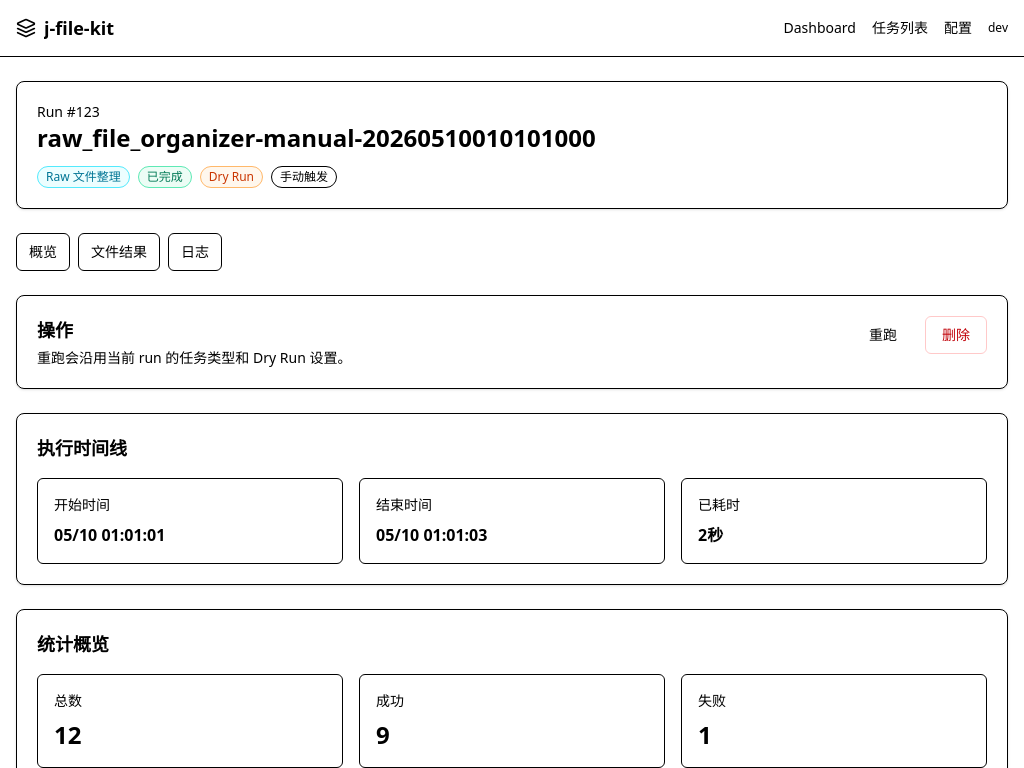
Test: Task detail page › changes file result pages
Click the tab "文件结果". click: (119,252)
box: top-left (78, 233), bottom-right (160, 271)
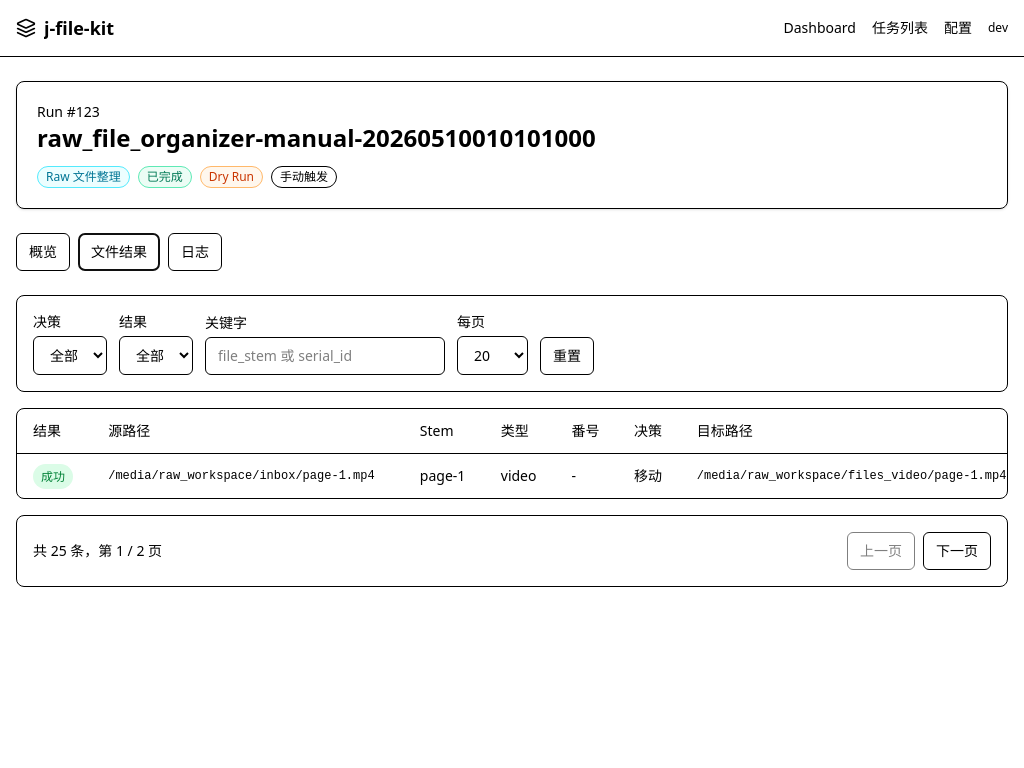
Expected: the text "page-1" is shown, top-left (420, 466), bottom-right (469, 486)
Click the button "下一页". click: (957,551)
box: top-left (923, 532), bottom-right (991, 570)
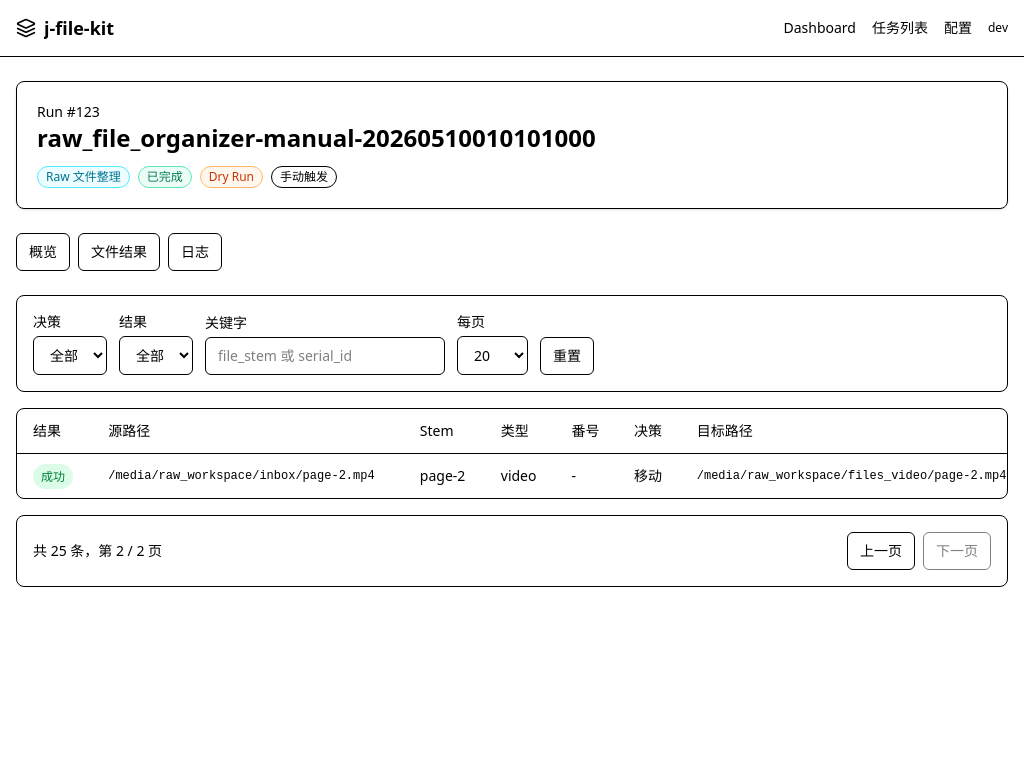
Expected: the text "page-2" is shown, top-left (420, 466), bottom-right (469, 486)
